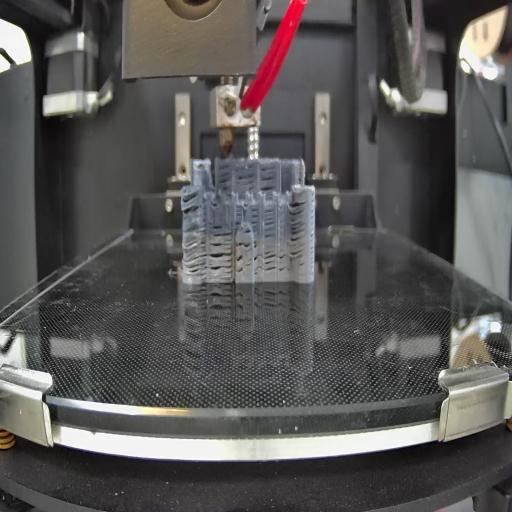cracks: (183, 223, 208, 278), (288, 200, 305, 258), (210, 242, 232, 276), (180, 192, 203, 217), (262, 206, 276, 238), (258, 164, 275, 190), (213, 222, 232, 239), (239, 170, 256, 189), (254, 237, 262, 276), (219, 166, 232, 190), (265, 248, 276, 272), (278, 249, 288, 275), (234, 204, 244, 227), (236, 238, 254, 249), (236, 255, 245, 276), (252, 205, 258, 225), (244, 231, 254, 236)
